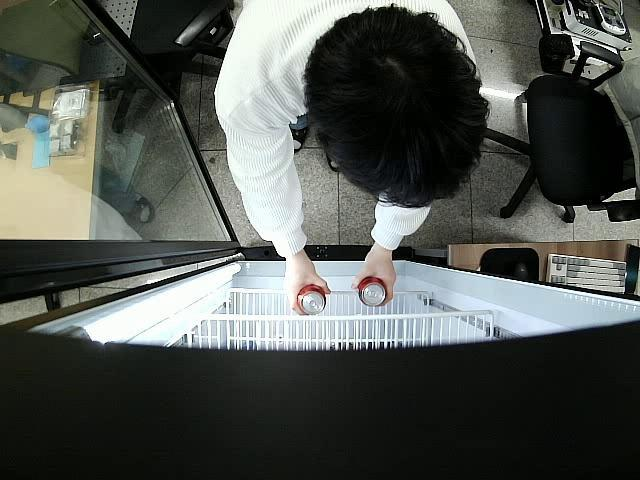11_cocaColaZero: (297, 284, 327, 315), (358, 276, 386, 305)
